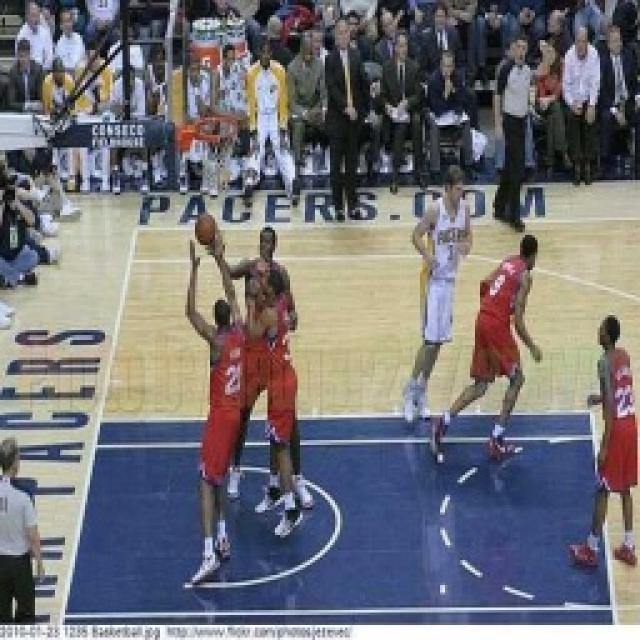rim: (190, 201, 224, 248)
